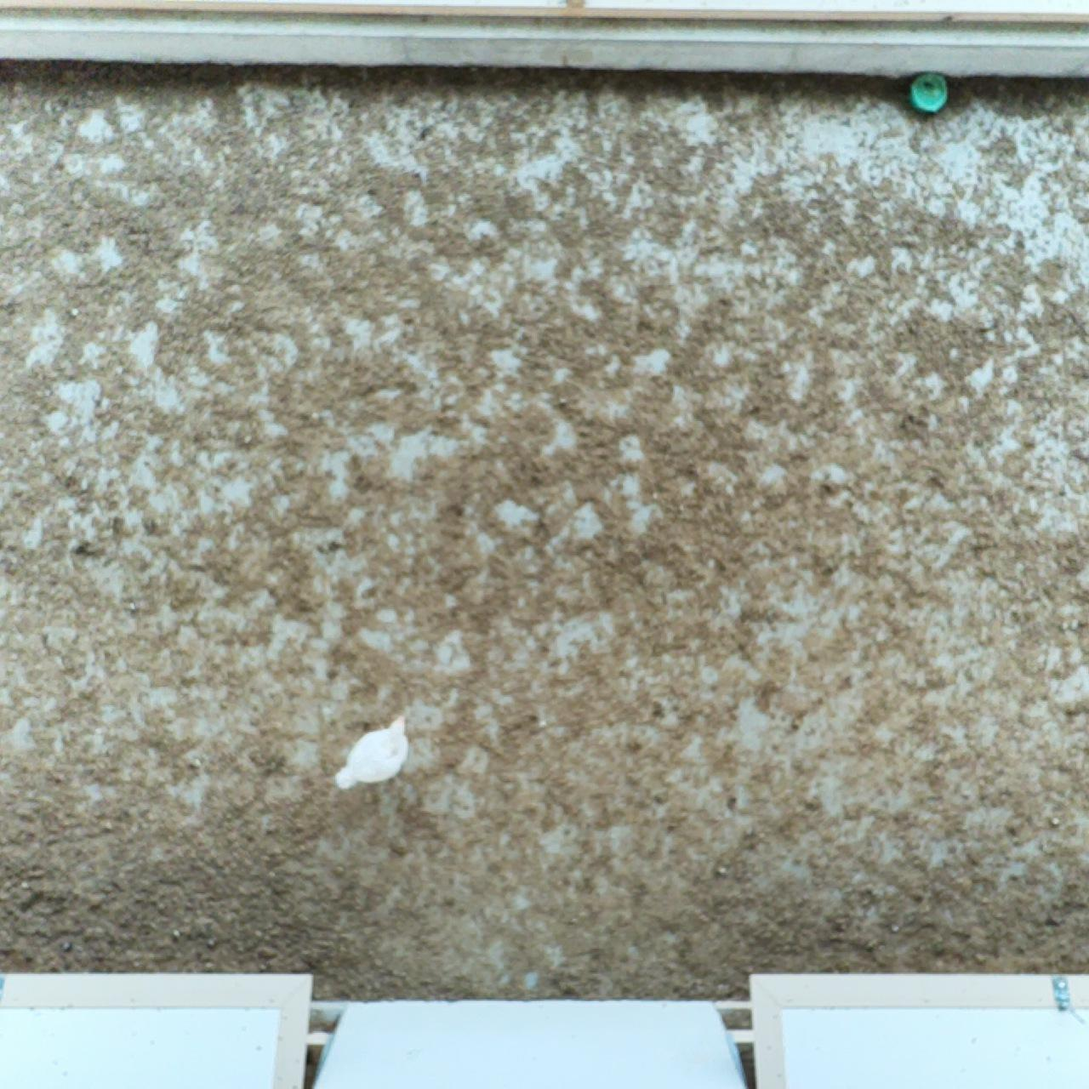chicken: (331, 709, 412, 795)
